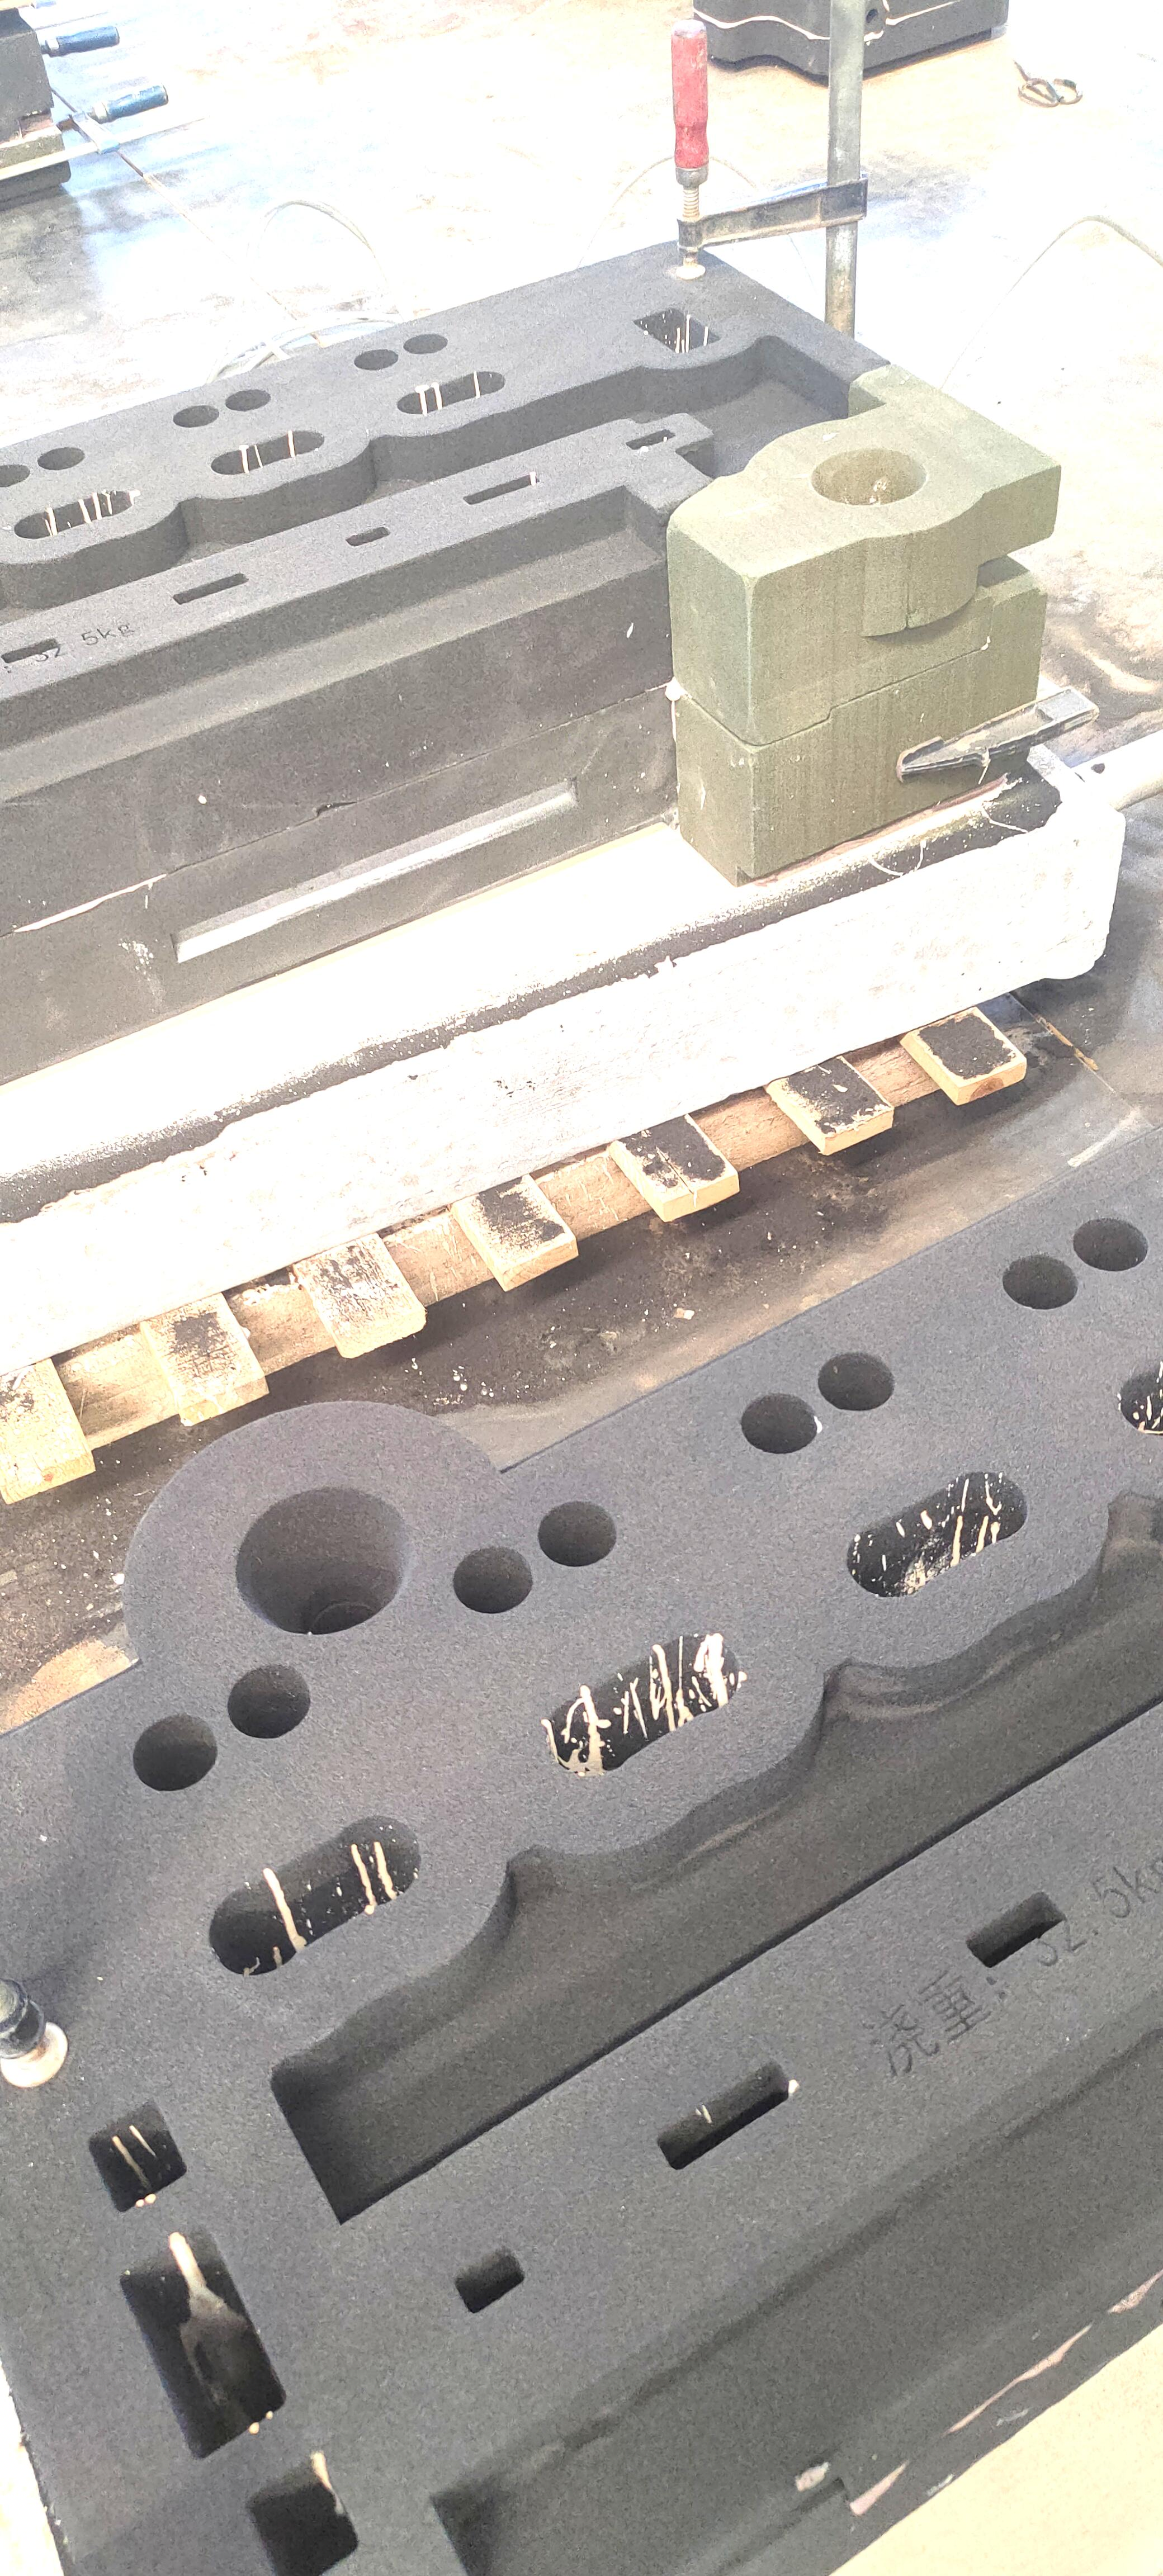pouring hole: (235, 1487, 412, 1635), (811, 449, 926, 506)
